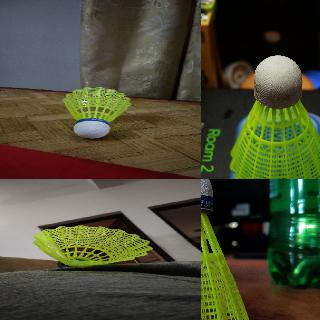shuttlecock: (228, 56, 319, 178), (201, 179, 253, 319), (31, 225, 152, 268), (62, 87, 130, 139)
